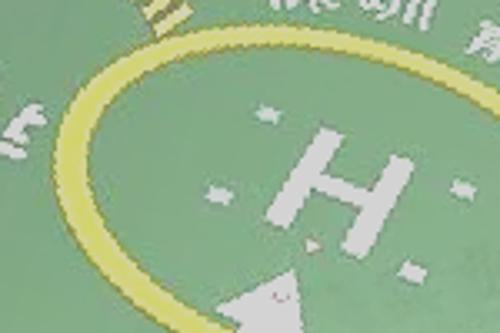Apron: (52, 23, 499, 333)
